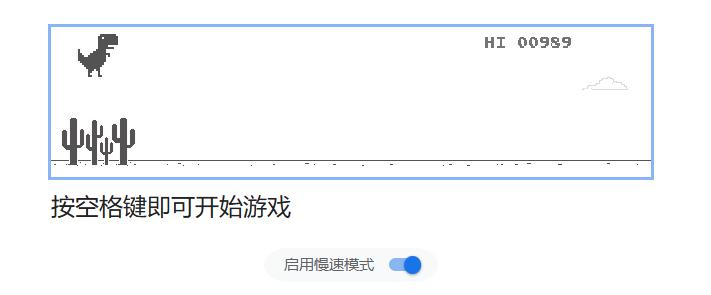cactus: (60, 116, 136, 168)
dino: (77, 33, 121, 77)
